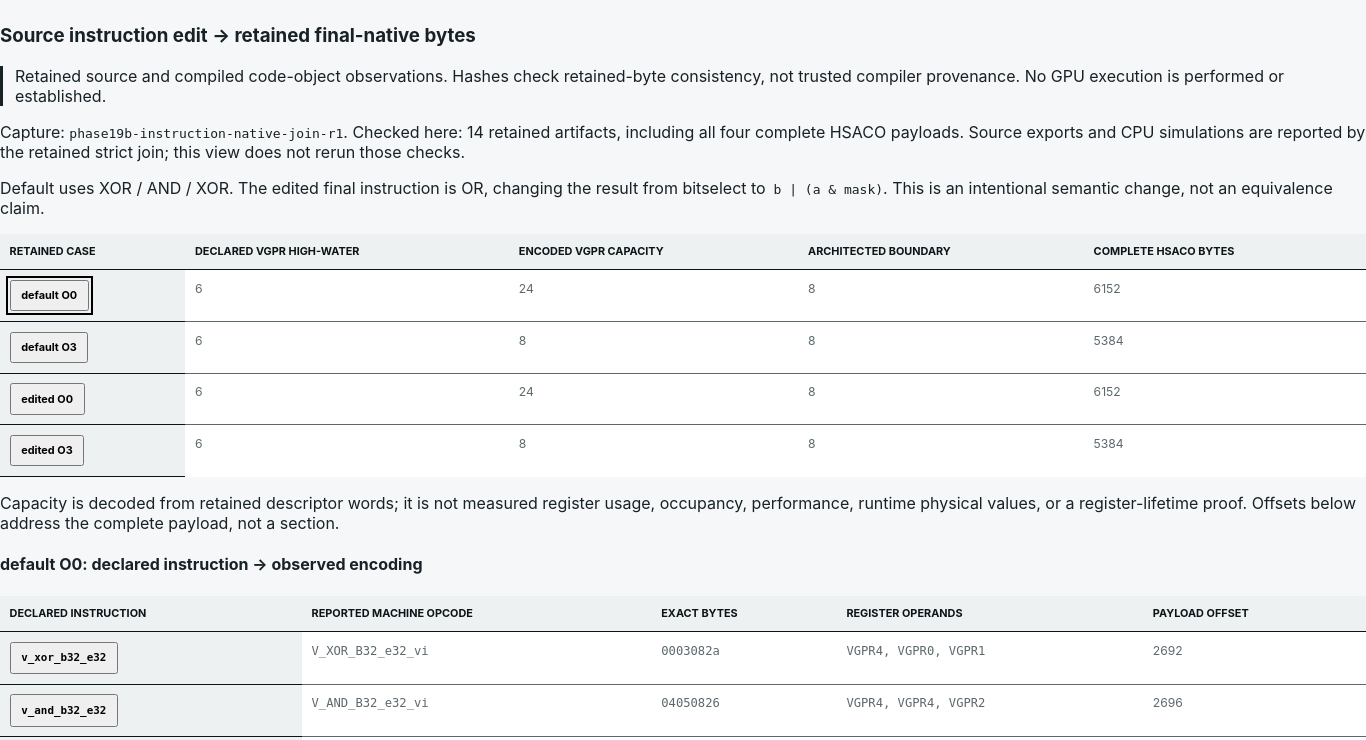
Scenario: malformed optional evidence does not hide a valid non-default native selection
The width and height of the screenshot is (1366, 740).
Expected: the table named "Declared and encoded native resources" is shown, [0, 234, 1365, 477]
Click the button with aria-label "Inspect edited O3" at coordinates (47, 451), box [10, 435, 84, 466]
(page scrolled)
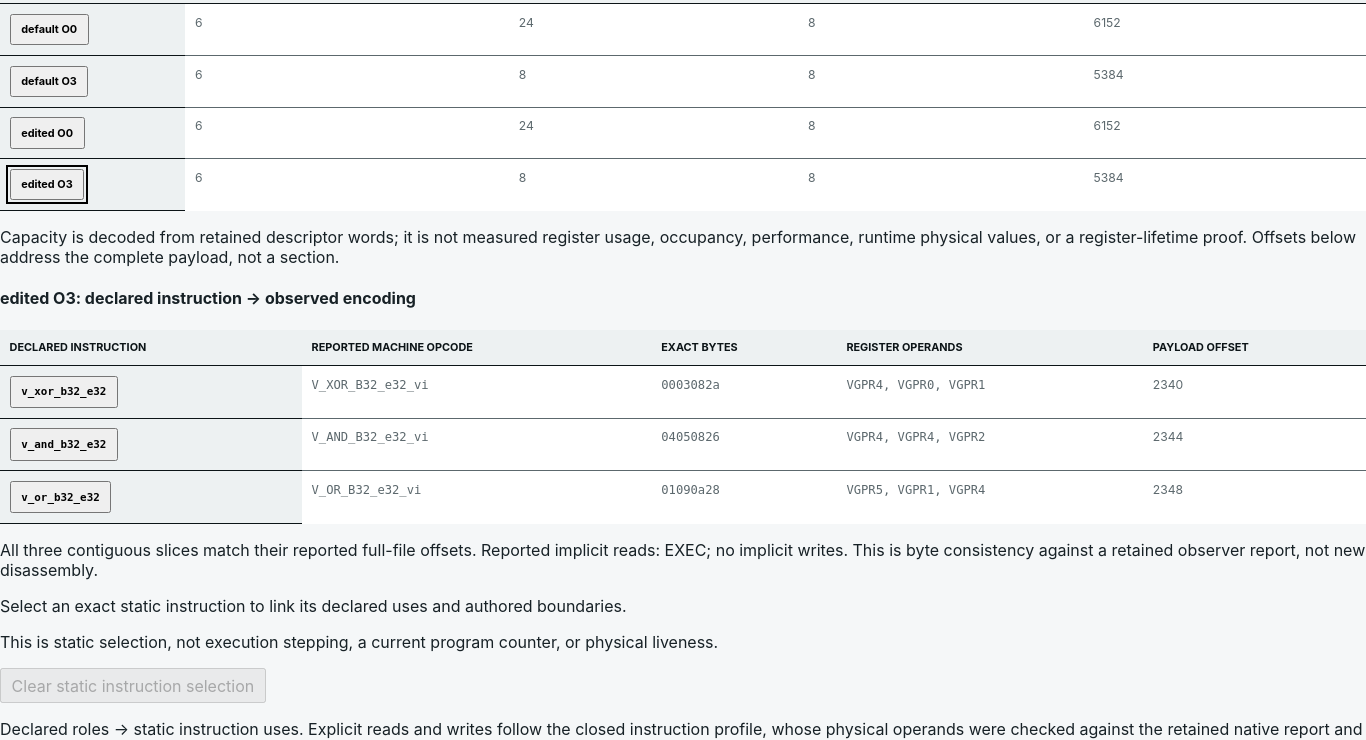
Expected: the table named "Exact native instruction bytes" shows "V_OR_B32_e32_vi", [312, 483, 421, 497]
